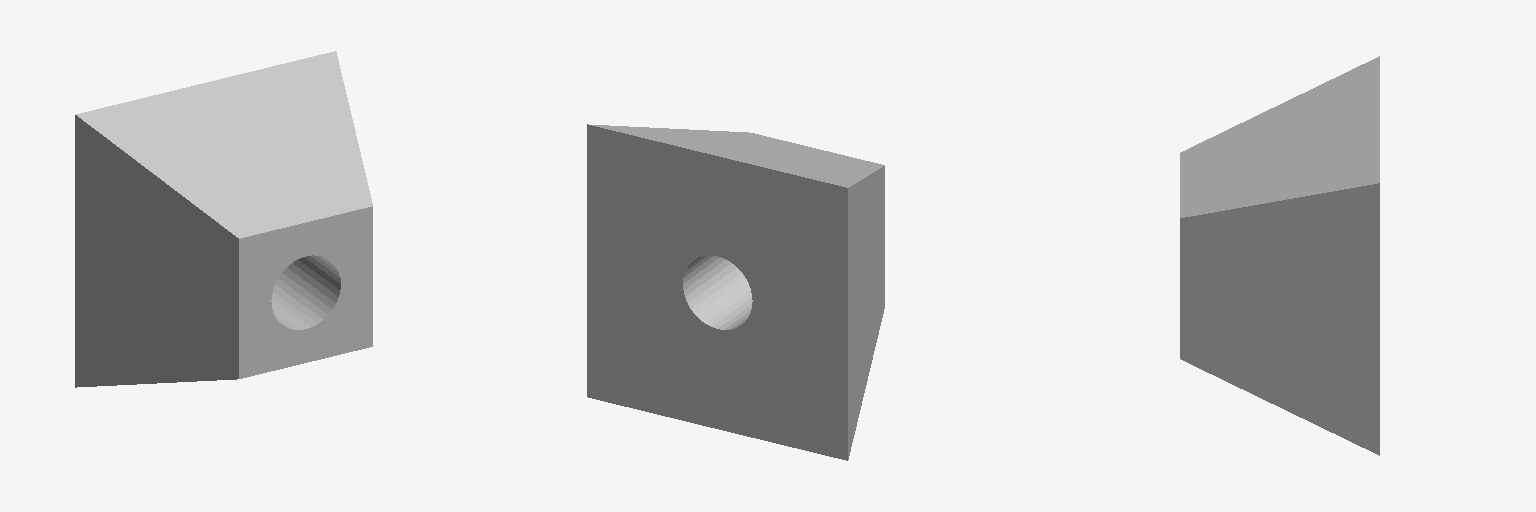
The model's file is Teil_4large.obj.
3 views of the same model, side by side, from view 1: azimuth 30°, elevation 25°; view 2: azimuth 150°, elevation 25°; view 3: azimuth 270°, elevation 25° (orthographic).
Parts seen in each view (by area): view 1: Teil_4; view 2: Teil_4; view 3: Teil_4.
Part boxes in pixels (x1,y1,x2,y2): Teil_4: (75, 51, 372, 387); Teil_4: (587, 124, 884, 460); Teil_4: (1180, 56, 1379, 455).
Bounding box in the file's own units: 0.3 × 0.3 × 0.2.